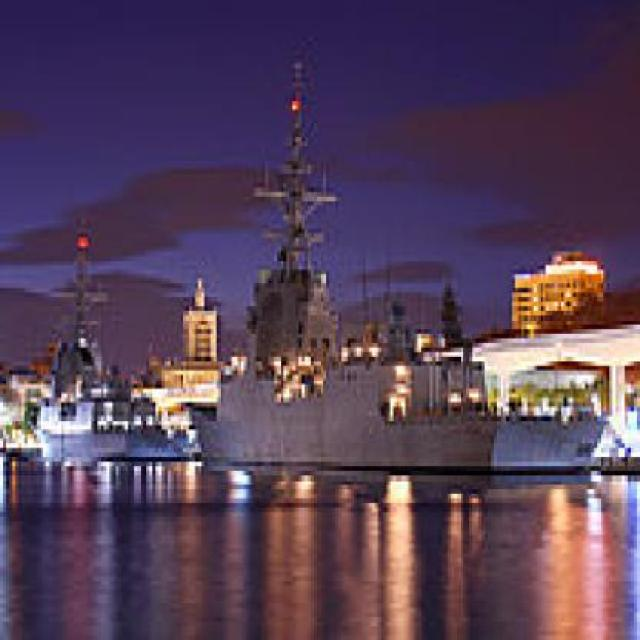warship2: (214, 65, 617, 496), (32, 216, 196, 481)
